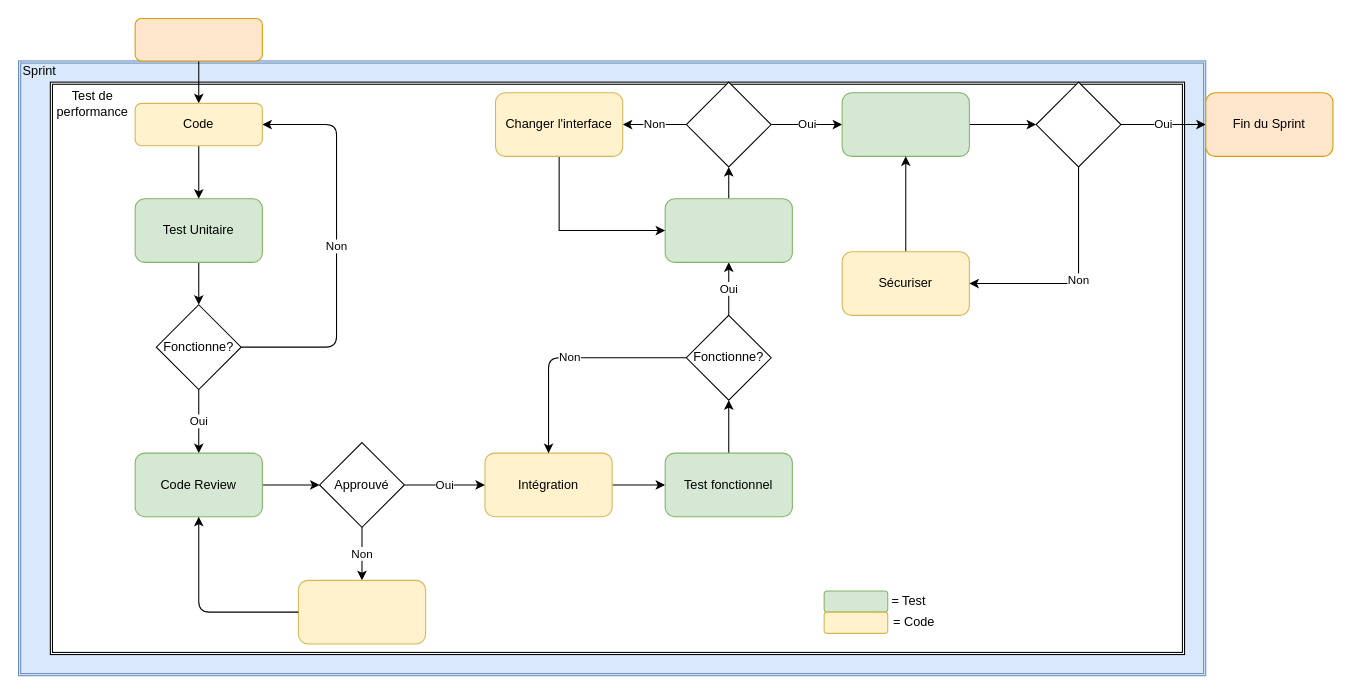
The diagram is 1351 pixels wide and 694 high, and some of its shapes have lost their labels. Here are the shapes that lost their labels. From the top down, the box of each, then its label:
(134, 17, 262, 61): Début
(685, 81, 771, 167): Ok
(841, 92, 969, 156): Test de sécurité
(1035, 81, 1121, 167): Sécurisé
(664, 198, 792, 262): Test d'ergonomie
(297, 579, 426, 644): Refactoriser
